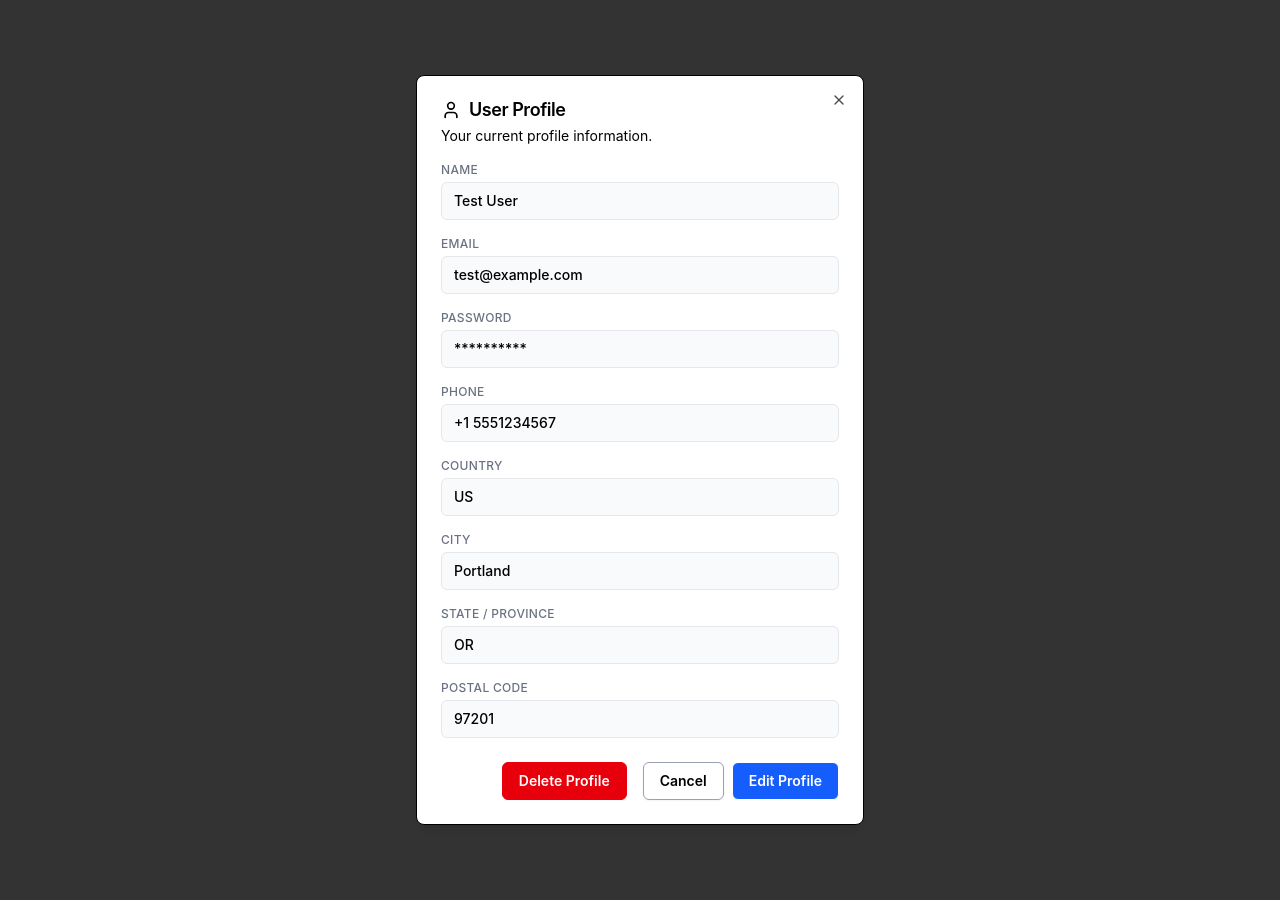
Test: UserProfileModal › returns to view mode when Cancel is clicked in edit mode
Click the button "Edit Profile" at (785,781), box x1=732 y1=762 x2=839 y2=800
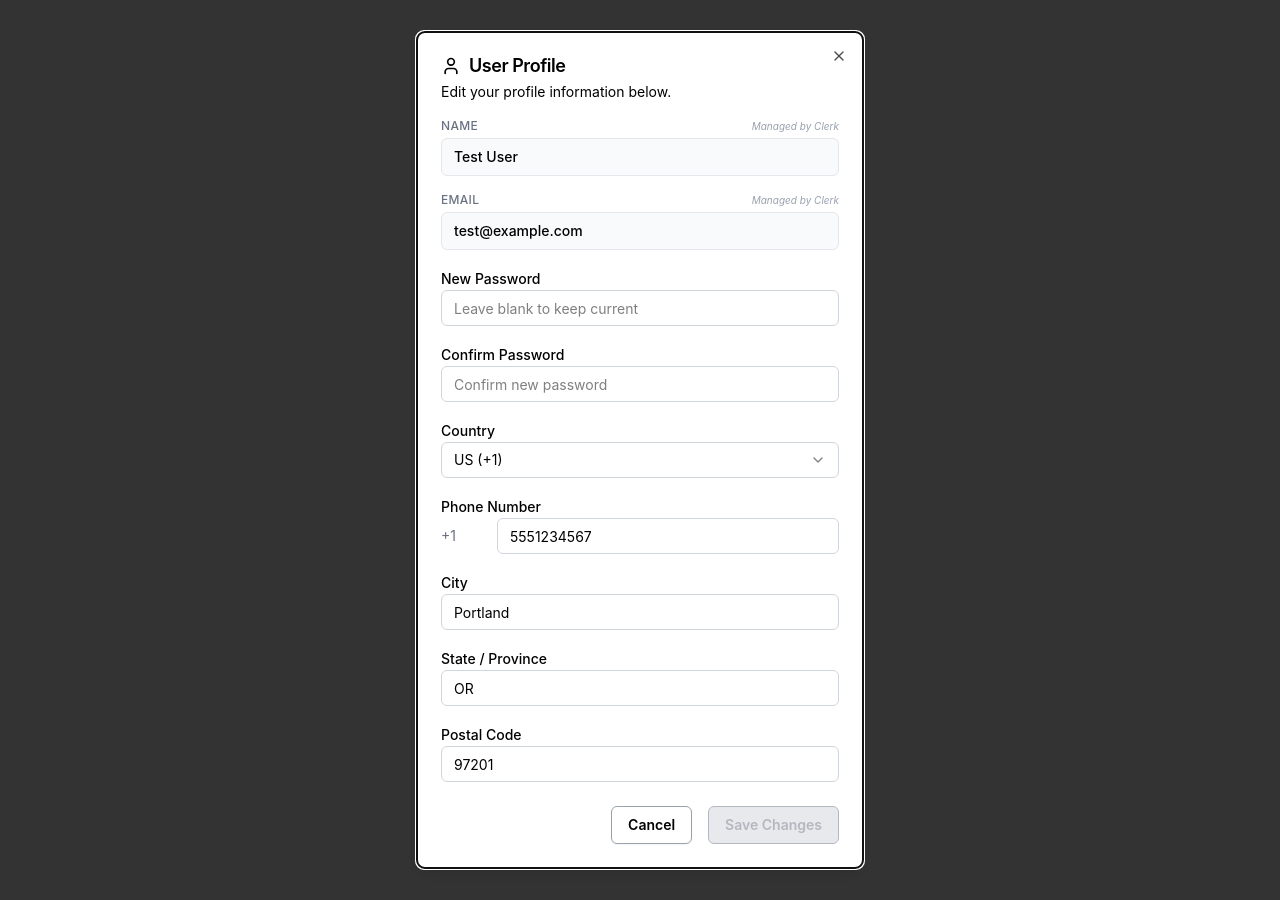
Expected: the button "Save Changes" is shown, x1=708 y1=806 x2=839 y2=844
Note: In edit mode, the Cancel button should switch back to view mode
Click the button "Cancel" at (652,825), box x1=611 y1=806 x2=692 y2=844
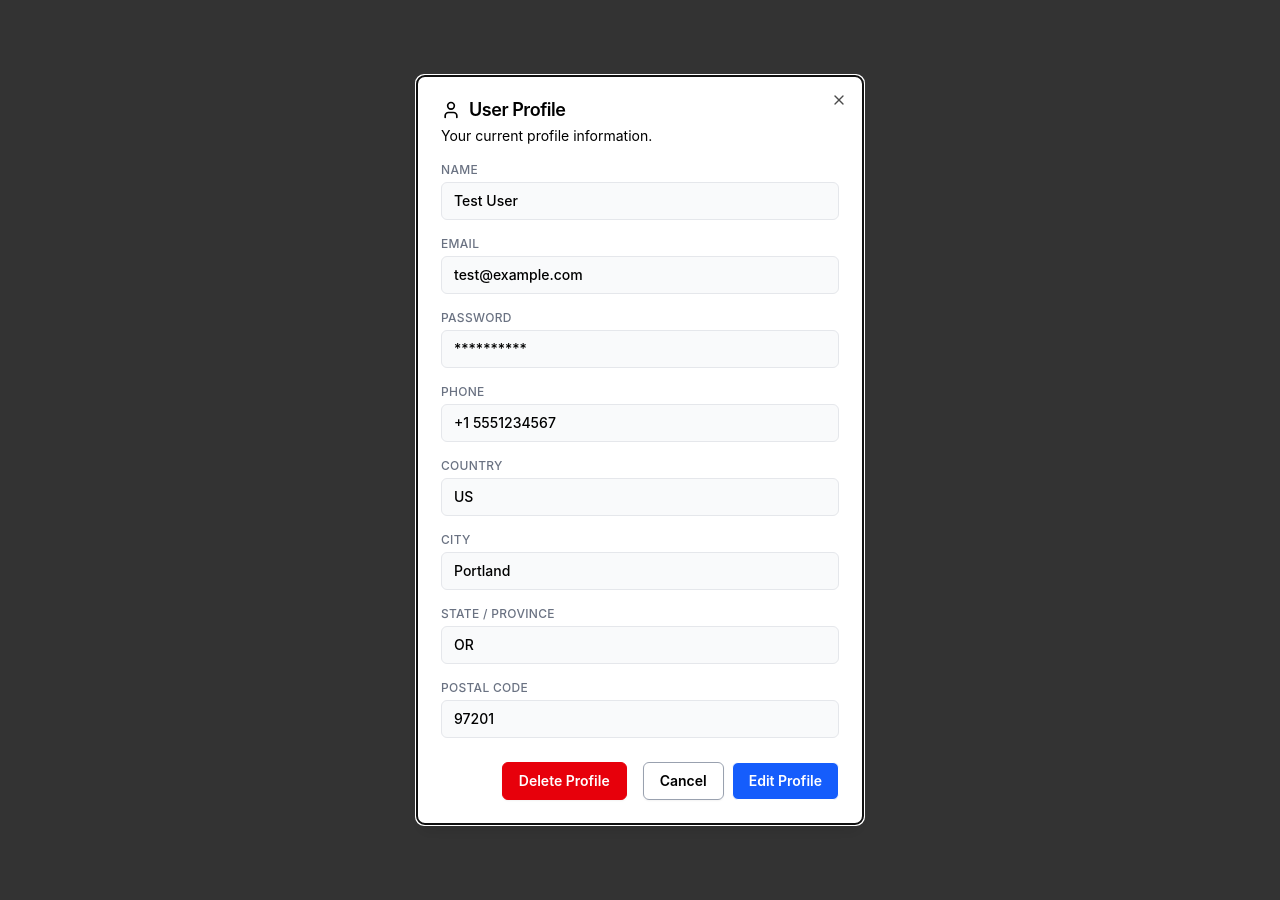
Expected: the button "Edit Profile" is shown, x1=732 y1=762 x2=839 y2=800
